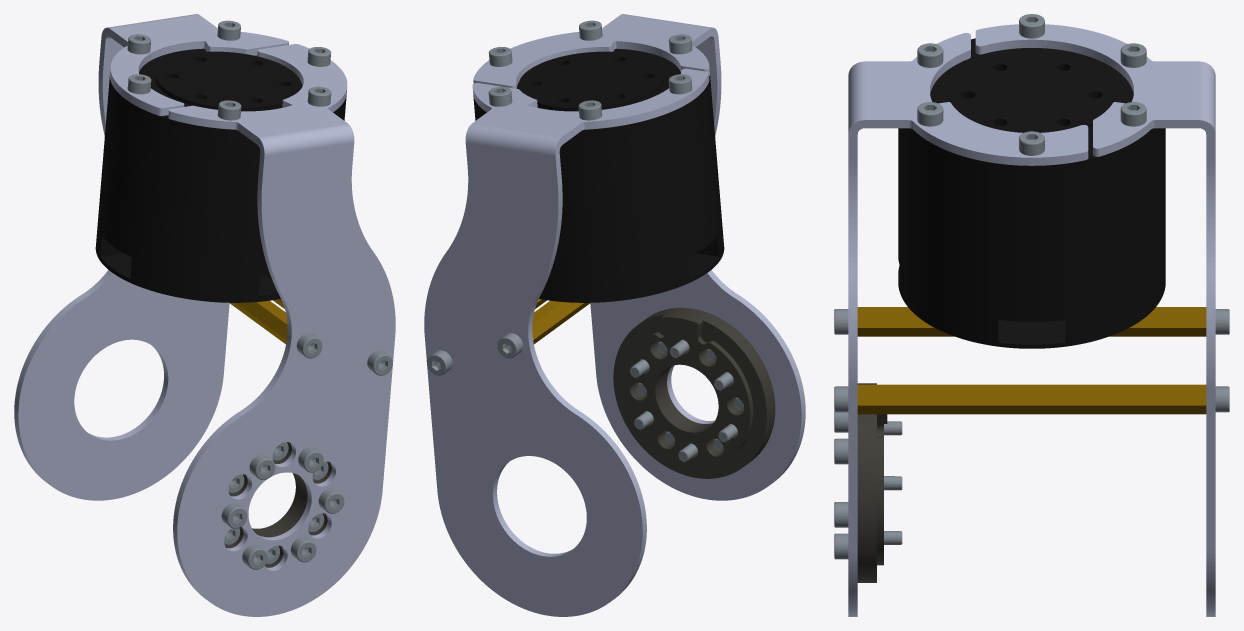
File: left_arm_l4.glb
3 views of the same model, side by side, from view 1: azimuth 30°, elevation 25°; view 2: azimuth 150°, elevation 25°; view 3: azimuth 270°, elevation 25° (orthographic). The views are drawn at different scales.
Visible parts, largest first — view 1: world; view 2: world; view 3: world.
Boxes of the visible parts, <box> form: world: <box>14,14,395,616</box>; world: <box>424,14,805,616</box>; world: <box>834,14,1229,616</box>.
Bounding box in the file's own units: 65.3 × 130 × 84.2.
